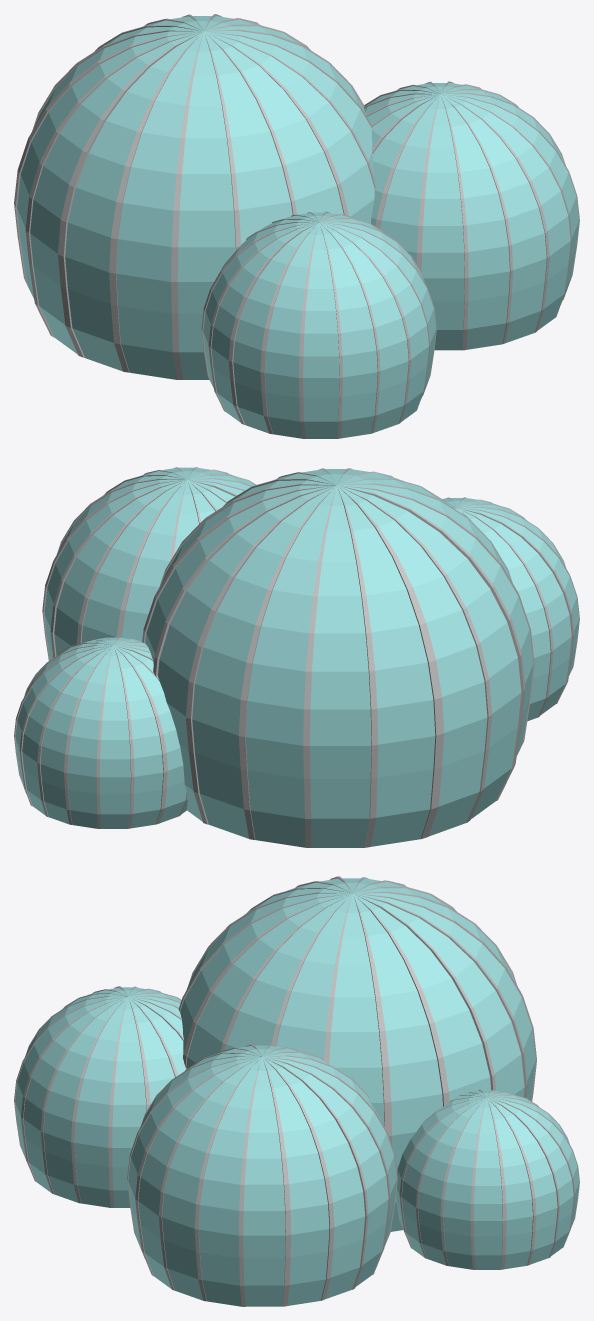
Rendered from BubbleDome.fbx.
3 views of the same model, one above another, from view 1: azimuth 30°, elevation 25°; view 2: azimuth 150°, elevation 25°; view 3: azimuth 270°, elevation 25° (orthographic). The views are drawn at different scales.
Visible parts, largest first — view 1: Bubble; view 2: Bubble; view 3: Bubble.
Boxes of the visible parts, <box> form: Bubble: <box>14,14,579,438</box>; Bubble: <box>14,467,579,847</box>; Bubble: <box>14,876,579,1306</box>.
Bounding box in the file's own units: 309 × 289 × 165.
